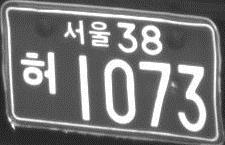0: (102, 57, 137, 125)
1: (75, 52, 92, 121)
3: (175, 61, 209, 133), (115, 21, 139, 53)
7: (136, 60, 174, 128)
8: (139, 23, 163, 56)
서울_O: (62, 18, 112, 50)
허: (19, 49, 58, 96)
